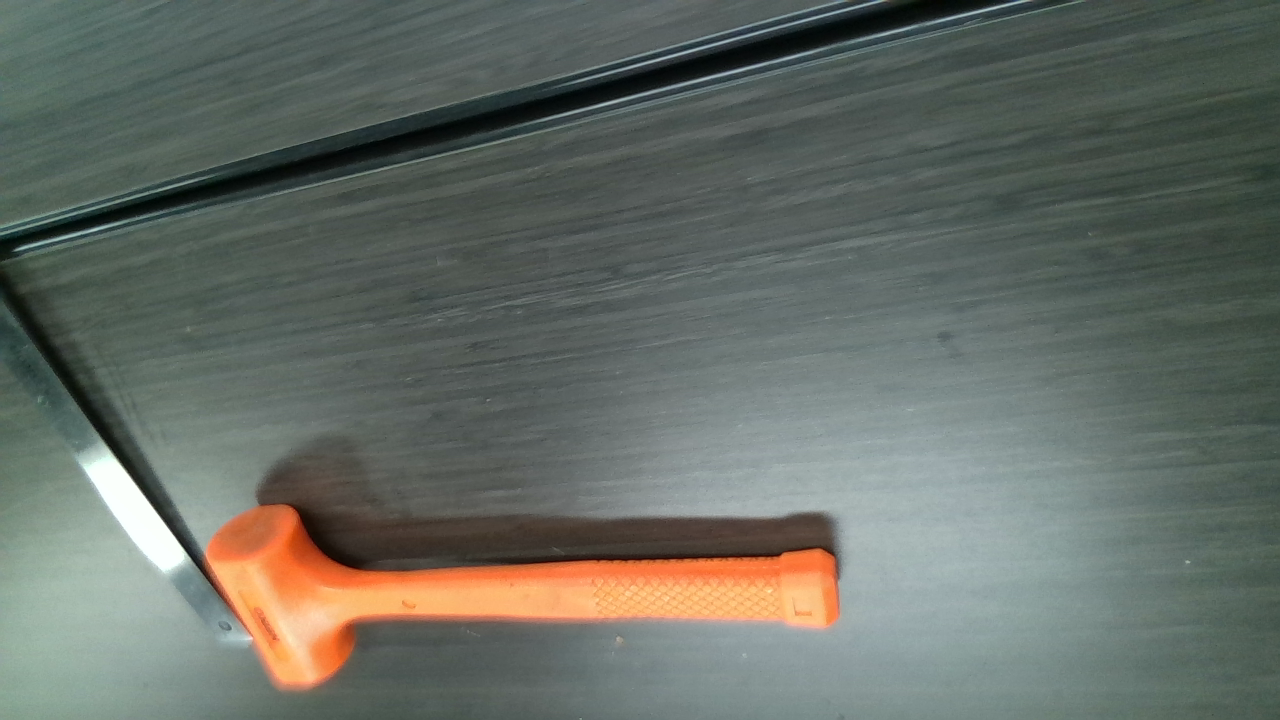Orange Hammer: (210, 506, 838, 688)
